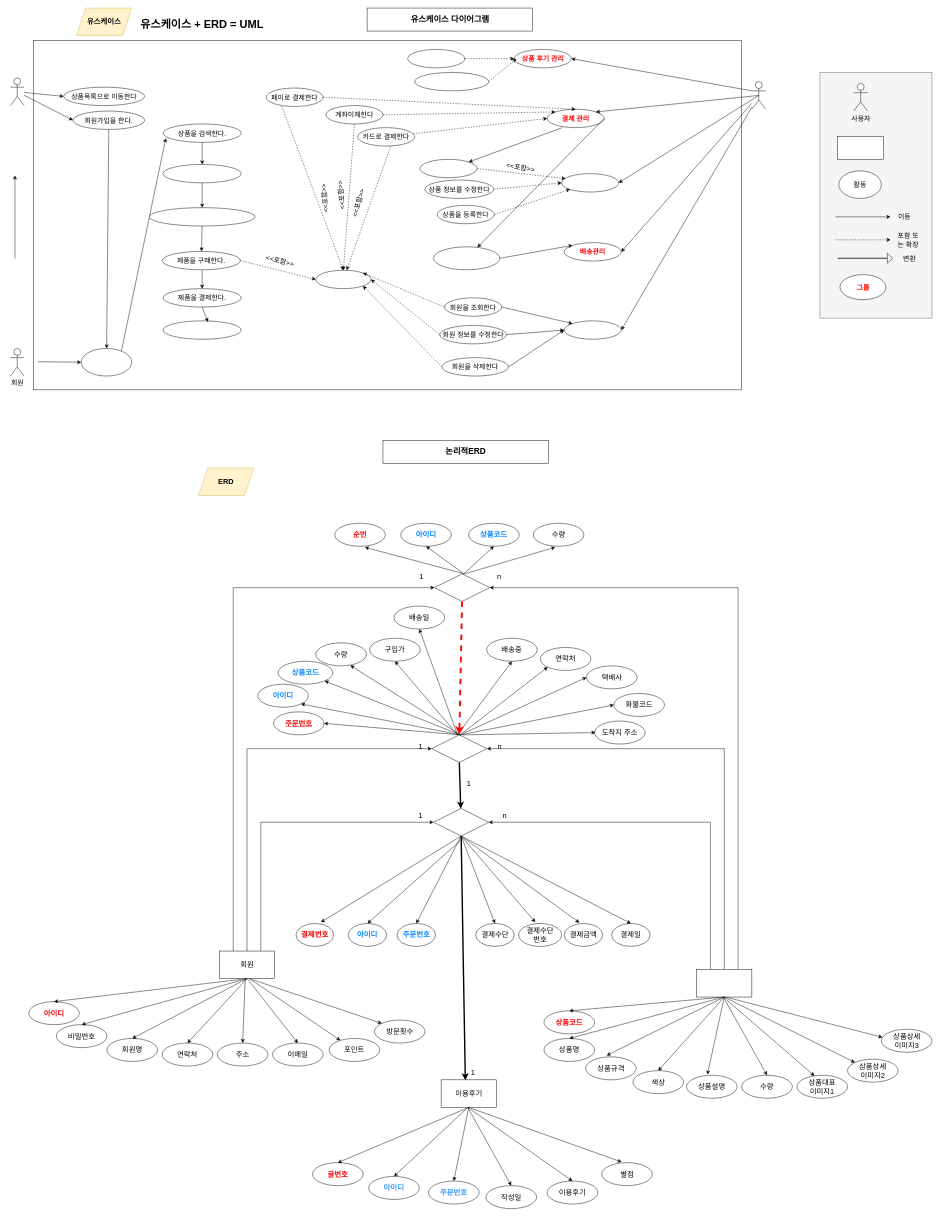
Image size: 940x1217. Some labels were removed from this diagram. Each missing label, with the centre of its shape:
"결제" goes at (461,822).
"관리자" goes at (758,95).
"구매할 상품을 선택한다." goes at (202,173).
"구매할 상품을 장바구니에 담는다" goes at (202,216).
"로그인을 한다." goes at (106,362).
"배송정보가 발생한다" goes at (466,258).
"비회원" goes at (17,92).
"사용자 인증" goes at (343,279).
"상품" goes at (724,983).
"상품관리" goes at (590,182).
"상품후기를 작성한다." goes at (202,329).
"시스템" goes at (860,147).
"장바구니" goes at (462,587).
"재고를 갱신한다" goes at (448,168).
"주문" goes at (459,748).
"회원관리" goes at (592,329).
"후기를 삭제한다." goes at (436,58).
"후기에 답변을 단다." goes at (451,81).
